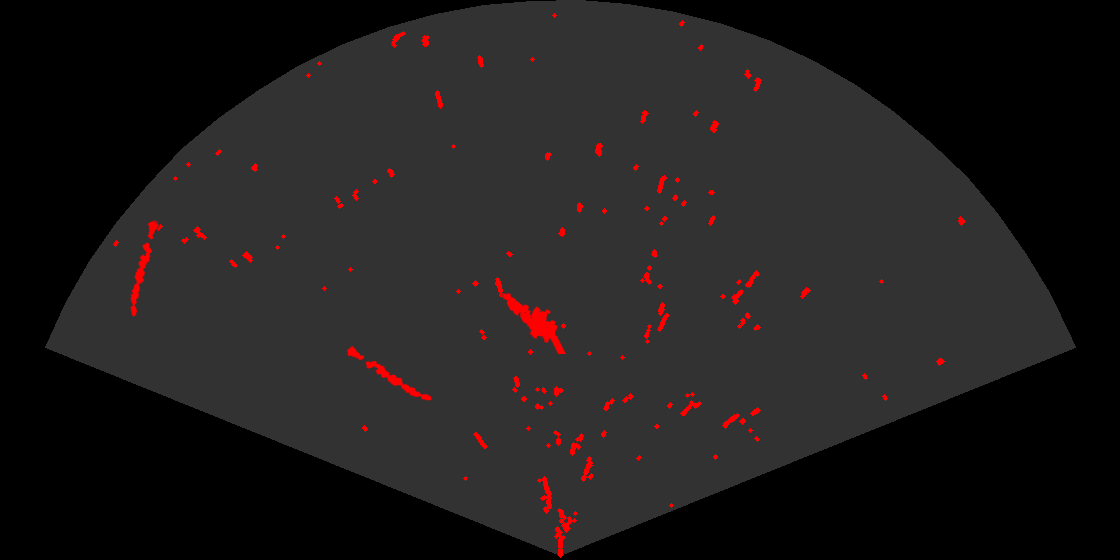chain: (345, 345, 433, 402), (129, 218, 160, 318)
frogman: (501, 291, 567, 354)
